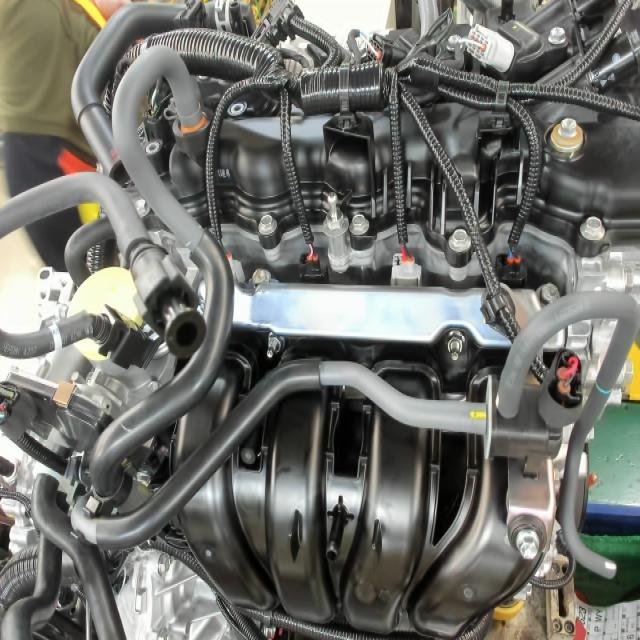Hose Canister-HJ: (588, 377, 612, 405)
Tube Sub Assy Fuel-W: (42, 322, 68, 355)
